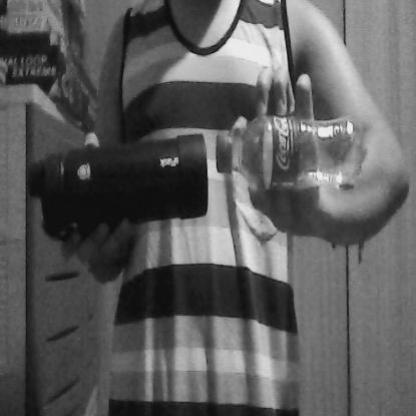Plastic Bottle: (211, 104, 374, 204)
